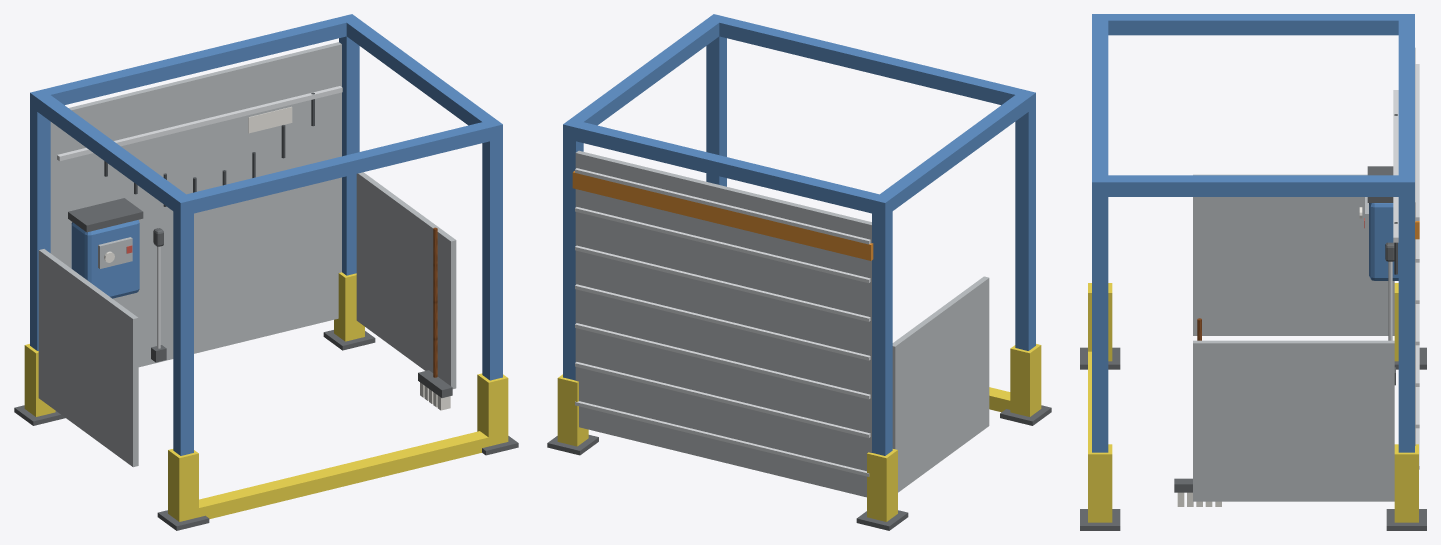
Rendered from tool-hire-depot-and-plant-yard-tool-hire-depot-and-pla-4c6a4627__35334.glb.
3 views of the same model, side by side, from view 1: azimuth 30°, elevation 25°; view 2: azimuth 150°, elevation 25°; view 3: azimuth 270°, elevation 25° (orthographic). The views are drawn at different scales.
Parts seen in each view (by area): view 1: tool-hire-depot-and-plant-yard-wash-bay-frame; view 2: tool-hire-depot-and-plant-yard-wash-bay-frame; view 3: tool-hire-depot-and-plant-yard-wash-bay-frame.
Part boxes in pixels (left/top/right/bottom): tool-hire-depot-and-plant-yard-wash-bay-frame: left=14, top=14, right=518, bottom=530; tool-hire-depot-and-plant-yard-wash-bay-frame: left=547, top=14, right=1051, bottom=530; tool-hire-depot-and-plant-yard-wash-bay-frame: left=1080, top=14, right=1426, bottom=530.
Size of the model in its own units: 3.14 by 2.82 by 2.58.
10 materials, 1 textured.
